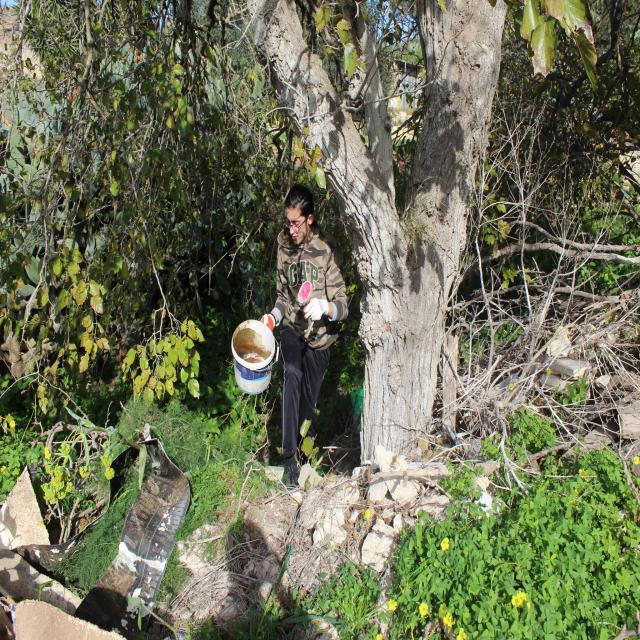Other litter: (1, 457, 190, 640)
Other plastic: (231, 318, 280, 396)
